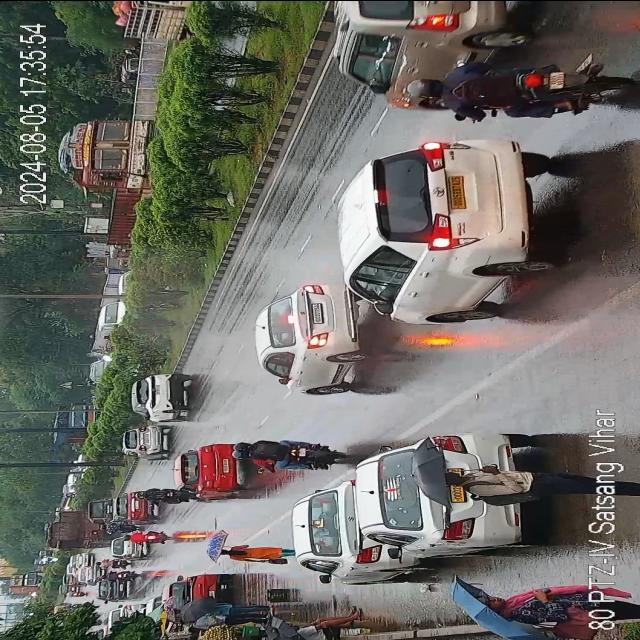2-wheelers: (408, 55, 614, 124), (223, 436, 339, 468), (132, 488, 186, 504), (121, 532, 169, 544), (95, 570, 136, 580), (95, 558, 129, 568), (98, 524, 140, 532), (100, 524, 136, 532), (64, 590, 86, 596)
car: (336, 129, 560, 325), (360, 439, 536, 565), (327, 0, 519, 104), (252, 280, 362, 402), (290, 480, 400, 582), (175, 440, 249, 502), (162, 571, 227, 624), (133, 368, 190, 423), (122, 422, 168, 460), (150, 592, 188, 636), (120, 490, 158, 523), (98, 301, 132, 330), (88, 494, 116, 522), (104, 604, 142, 624), (92, 581, 130, 599), (106, 540, 144, 558), (72, 550, 92, 568), (64, 567, 80, 584), (79, 566, 94, 582)
pedestrian: (444, 457, 586, 497), (467, 584, 565, 620), (283, 606, 361, 640), (215, 543, 288, 565), (175, 612, 268, 627), (190, 600, 275, 615)
truck: (72, 112, 156, 266), (111, 0, 183, 42), (51, 509, 106, 549)
